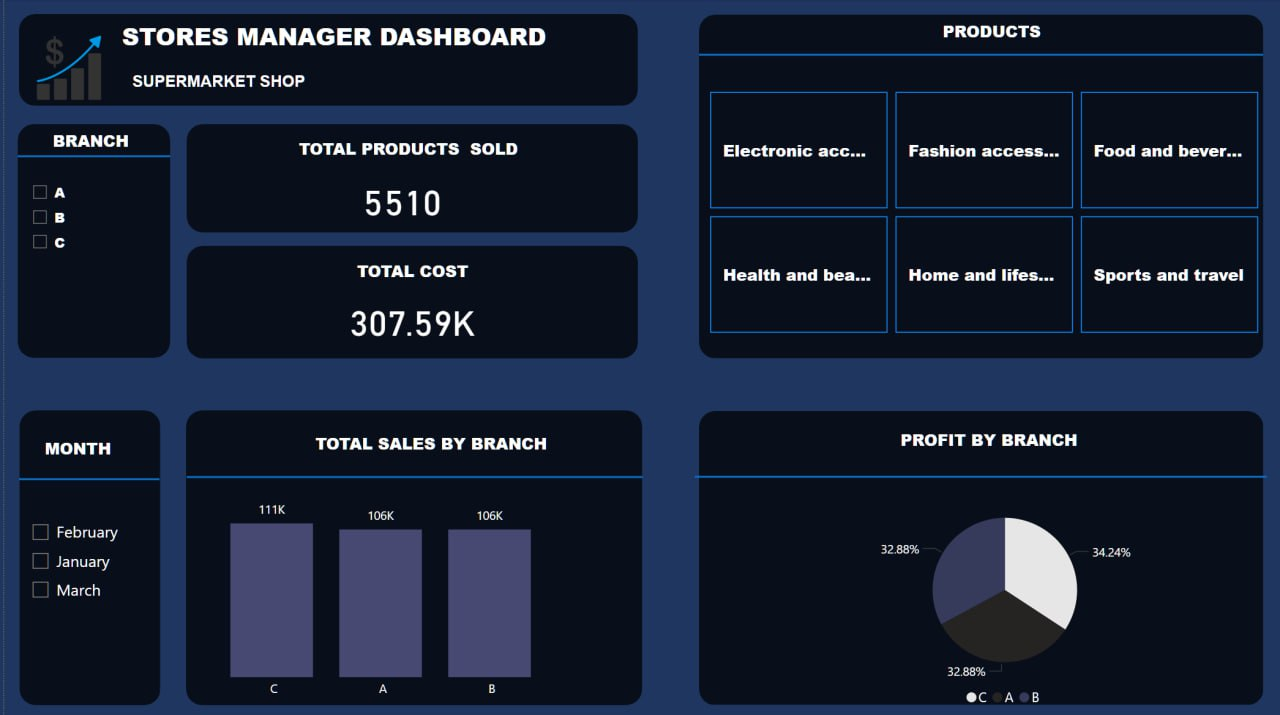

What the dashboard file says about the page in this screenshot:
{"tool":"powerbi","page":{"name":"STORE MANAGER","canvas":[1280,720],"ordinal":3},"visuals":[{"type":"shape","box":[14.7,14.7,621.1,92.2],"z":0},{"type":"shape","box":[182.5,412.8,457.7,296.1],"z":1000},{"type":"shape","box":[15.4,412.8,141.3,296.1],"z":5000},{"type":"shape","box":[13.5,125.3,153,234.7],"z":6000},{"type":"shape","box":[697.3,413.4,566.4,295.5],"z":8000},{"type":"shape","box":[183.1,125.3,452.8,108.7],"z":11000},{"type":"shape","box":[183.1,247.6,452.8,113],"z":13000},{"type":"shape","box":[183.1,411,457.7,137.6],"z":15000},{"type":"textbox","box":[113.3,15.3,479.3,45.3],"z":20000},{"type":"textbox","box":[123.3,68.7,243.3,32],"z":21000},{"type":"image","box":[16,30.7,97.1,76.2],"z":22000},{"type":"slicer","fields":{"Values":["supermarket_sales - Sheet2.Month"]},"box":[15.4,514.8,140.1,170.2],"z":25000},{"type":"shape","box":[14.7,449.1,141.3,65.7],"z":26000},{"type":"textbox","box":[290.6,133.3,243.3,56.5],"z":28000},{"type":"textbox","box":[35.6,434.3,119.8,44.2],"z":29000},{"type":"clusteredColumnChart","fields":{"Y":["Sum(supermarket_sales - Sheet2.Total ($))"],"Category":["supermarket_sales - Sheet2.Branch"]},"box":[178.2,489.6,403.6,221.2],"z":30000},{"type":"textbox","box":[307.2,429.4,274.6,54.1],"z":31000},{"type":"card","fields":{"Values":["Sum(supermarket_sales - Sheet2.Cost of Goods Sold ($))"]},"box":[183.1,285.1,452.8,75.6],"z":37000},{"type":"textbox","box":[348.9,256.2,173.2,47.9],"z":38000},{"type":"card","fields":{"Values":["Sum(supermarket_sales - Sheet2.Quantity)"]},"box":[194.7,170.8,408.5,62],"z":45000},{"type":"shape","box":[697.3,15.4,566.4,345.3],"z":46000},{"type":"shape","box":[697.3,23.3,566.4,64.5],"z":47000},{"type":"advancedSlicerVisual","fields":{"Values":["supermarket_sales - Sheet2.Product line"]},"box":[703.4,87.8,560.3,253.7],"z":48000},{"type":"textbox","box":[936.9,15.4,135.2,45.5],"z":49000},{"type":"slicer","fields":{"Values":["supermarket_sales - Sheet2.Branch"]},"box":[16,176.3,148.7,108.7],"z":50000},{"type":"shape","box":[13.5,125.3,153,64.5],"z":51000},{"type":"textbox","box":[43.6,125.3,111.8,45.5],"z":52000},{"type":"pieChart","fields":{"Category":["supermarket_sales - Sheet2.Branch"],"Y":["Sum(supermarket_sales - Sheet2.Gross Income)"]},"box":[744.6,495.8,519.1,224.2],"z":57000},{"type":"shape","box":[693,425.1,574.4,108.7],"z":58000},{"type":"textbox","box":[894.5,425.7,235.3,46.7],"z":59000}]}

Visuals, with their boxes in screenshot pixels (x1, y1, x2, y2), scaled from the page's 1280x720 canvas onto the 1280x715 screenshot:
shape: rect(15, 15, 636, 106)
shape: rect(182, 410, 640, 704)
shape: rect(15, 410, 157, 704)
shape: rect(14, 124, 166, 358)
shape: rect(697, 411, 1264, 704)
shape: rect(183, 124, 636, 232)
shape: rect(183, 246, 636, 358)
shape: rect(183, 408, 641, 545)
textbox: rect(113, 15, 593, 60)
textbox: rect(123, 68, 367, 100)
image: rect(16, 30, 113, 106)
slicer - supermarket_sales - Sheet2.Month: rect(15, 511, 156, 680)
shape: rect(15, 446, 156, 511)
textbox: rect(291, 132, 534, 188)
textbox: rect(36, 431, 155, 475)
clusteredColumnChart - Sum(supermarket_sales - Sheet2.Total ($)) x supermarket_sales - Sheet2.Branch: rect(178, 486, 582, 706)
textbox: rect(307, 426, 582, 480)
card - Sum(supermarket_sales - Sheet2.Cost of Goods Sold ($)): rect(183, 283, 636, 358)
textbox: rect(349, 254, 522, 302)
card - Sum(supermarket_sales - Sheet2.Quantity): rect(195, 170, 603, 231)
shape: rect(697, 15, 1264, 358)
shape: rect(697, 23, 1264, 87)
advancedSlicerVisual - supermarket_sales - Sheet2.Product line: rect(703, 87, 1264, 339)
textbox: rect(937, 15, 1072, 60)
slicer - supermarket_sales - Sheet2.Branch: rect(16, 175, 165, 283)
shape: rect(14, 124, 166, 188)
textbox: rect(44, 124, 155, 170)
pieChart - supermarket_sales - Sheet2.Branch x Sum(supermarket_sales - Sheet2.Gross Income): rect(745, 492, 1264, 714)
shape: rect(693, 422, 1267, 530)
textbox: rect(894, 423, 1130, 469)
